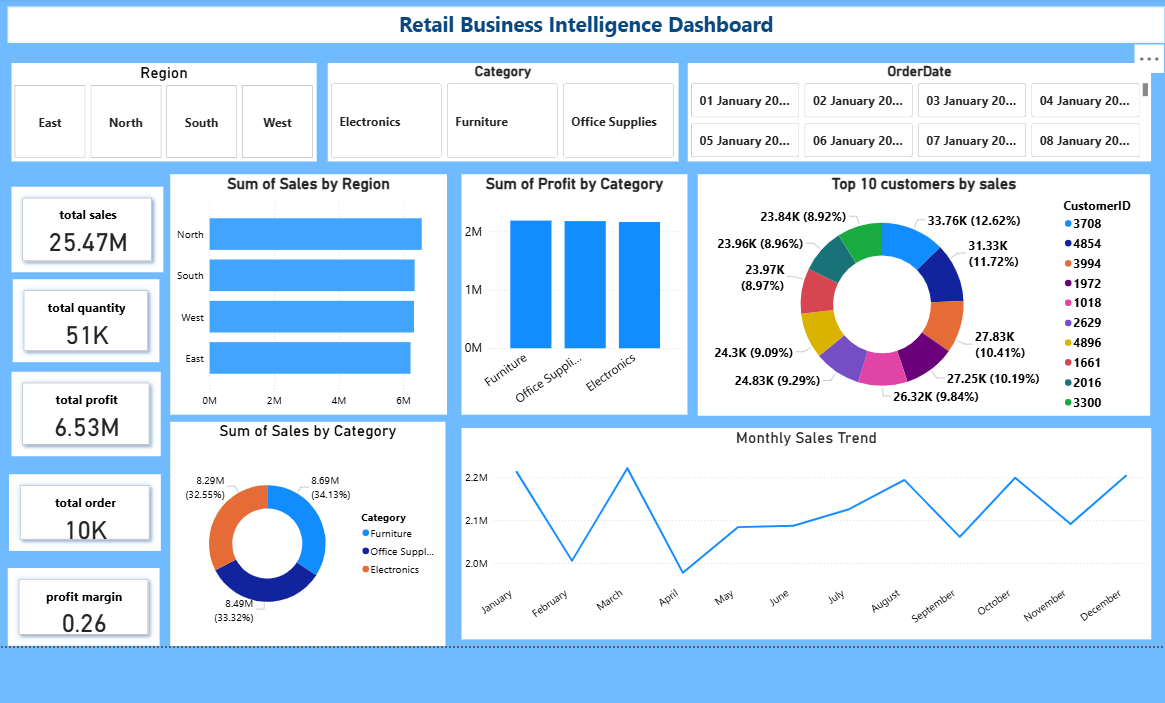

What the dashboard file says about the page in this screenshot:
{"tool":"powerbi","page":{"name":"Page 1","canvas":[1800,1000],"ordinal":0},"visuals":[{"type":"cardVisual","fields":{"Data":["retail_business_dataset_10000.total sales"]},"box":[20,290.6,234.5,132.3],"z":0},{"type":"cardVisual","fields":{"Data":["retail_business_dataset_10000.total profit"]},"box":[20,577.3,230.5,130.3],"z":1000},{"type":"cardVisual","fields":{"Data":["retail_business_dataset_10000.total order"]},"box":[16,735.6,234.5,118.3],"z":2000},{"type":"cardVisual","fields":{"Data":["retail_business_dataset_10000.total quantity"]},"box":[22,435,226.5,128.3],"z":3000},{"type":"cardVisual","fields":{"Data":["retail_business_dataset_10000.profit margin"]},"box":[14,880,234.5,120.3],"z":4000},{"type":"barChart","fields":{"Category":["retail_business_dataset_10000.Region"],"Y":["Sum(retail_business_dataset_10000.Sales)"]},"box":[264.6,272.6,426.9,370.8],"z":5000},{"type":"columnChart","fields":{"Category":["retail_business_dataset_10000.Category"],"Y":["Sum(retail_business_dataset_10000.Profit)"]},"box":[713.6,272.6,348.8,370.8],"z":6000},{"type":"lineChart","title":"Monthly Sales Trend","fields":{"Category":["retail_business_dataset_10000.OrderDate.Variation.Date Hierarchy.Month"],"Y":["Sum(retail_business_dataset_10000.Sales)"]},"box":[714,663.8,1065.2,326.1],"z":7000},{"type":"donutChart","fields":{"Category":["retail_business_dataset_10000.Category"],"Y":["Sum(retail_business_dataset_10000.Sales)"]},"box":[264.6,653.5,424.9,346.8],"z":8000},{"type":"advancedSlicerVisual","fields":{"Values":["retail_business_dataset_10000.Region"]},"box":[20,100.2,471,152.3],"z":10000},{"type":"advancedSlicerVisual","fields":{"Values":["retail_business_dataset_10000.OrderDate"]},"box":[1062.4,100.2,715.6,152.3],"z":11000},{"type":"advancedSlicerVisual","fields":{"Values":["retail_business_dataset_10000.Category"]},"box":[507.1,100.2,541.2,152.3],"z":12000},{"type":"textbox","box":[14,14,1786,56.1],"z":13000},{"type":"donutChart","title":"Top 10 customers by sales","fields":{"Category":["retail_business_dataset_10000.CustomerID"],"Y":["Sum(retail_business_dataset_10000.Sales)"]},"box":[1078.7,272.1,698.5,372.4],"z":13003}]}

Visuals, with their boxes in screenshot pixels (x1, y1, x2, y2):
cardVisual - retail_business_dataset_10000.total sales: <box>1,186,156,274</box>
cardVisual - retail_business_dataset_10000.total profit: <box>1,376,154,462</box>
cardVisual - retail_business_dataset_10000.total order: <box>0,481,154,559</box>
cardVisual - retail_business_dataset_10000.total quantity: <box>2,282,152,367</box>
cardVisual - retail_business_dataset_10000.profit margin: <box>0,576,152,656</box>
barChart - retail_business_dataset_10000.Region x Sum(retail_business_dataset_10000.Sales): <box>163,174,445,420</box>
columnChart - retail_business_dataset_10000.Category x Sum(retail_business_dataset_10000.Profit): <box>460,174,691,420</box>
"Monthly Sales Trend" lineChart: <box>460,433,1164,649</box>
donutChart - retail_business_dataset_10000.Category x Sum(retail_business_dataset_10000.Sales): <box>163,426,444,656</box>
advancedSlicerVisual - retail_business_dataset_10000.Region: <box>1,60,313,161</box>
advancedSlicerVisual - retail_business_dataset_10000.OrderDate: <box>691,60,1164,161</box>
advancedSlicerVisual - retail_business_dataset_10000.Category: <box>323,60,682,161</box>
textbox: <box>0,3,1164,40</box>
"Top 10 customers by sales" donutChart: <box>702,174,1164,420</box>
